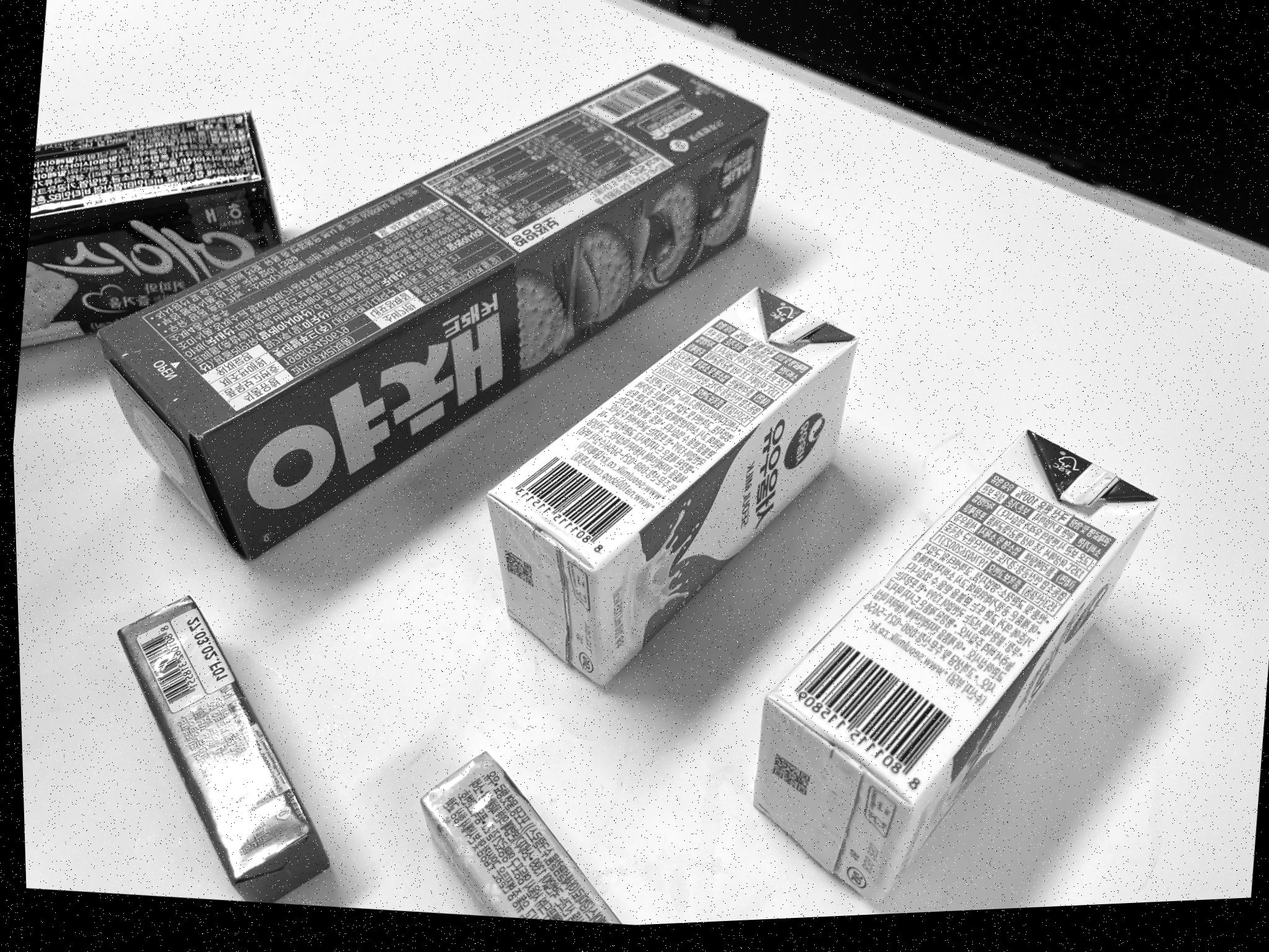cracker_ace: (20, 109, 284, 351)
cracker_vege: (96, 61, 767, 563)
gum_green: (113, 592, 328, 901)
gum_yellow: (420, 749, 621, 919)
milk_blue: (754, 430, 1158, 912)
milk_green: (486, 285, 861, 692)
